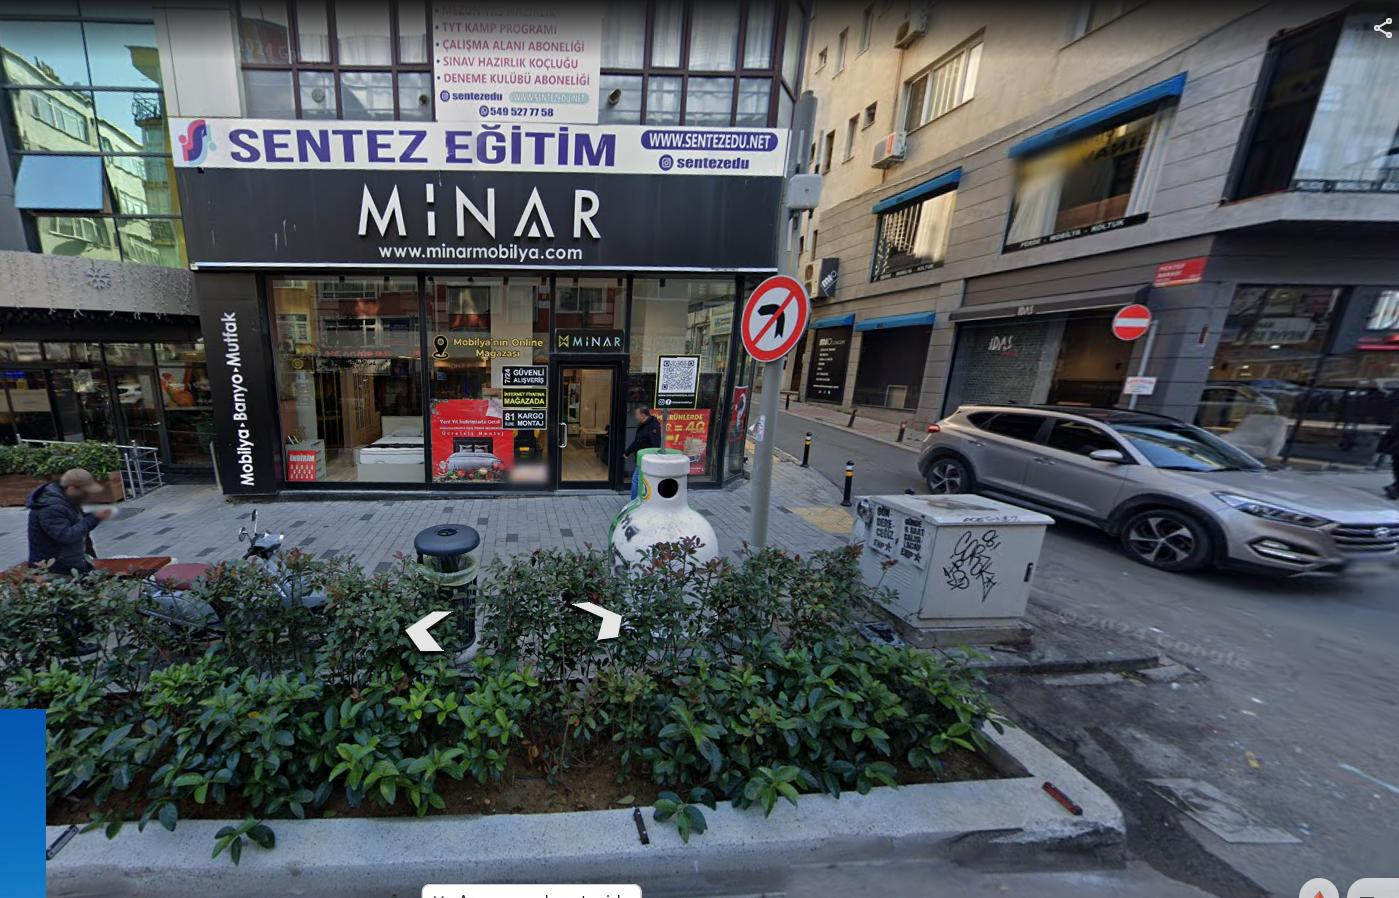leftturnsareforbidden: (744, 279, 807, 361)
